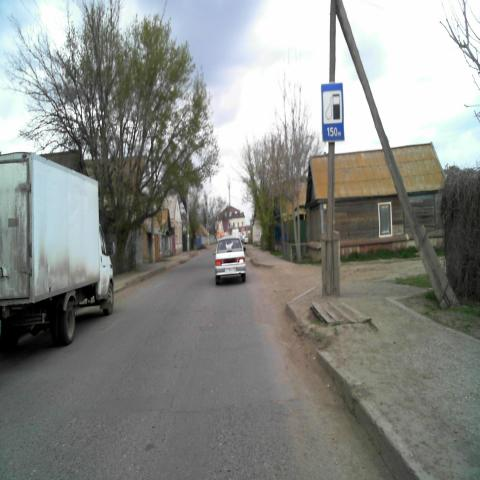7_3: (321, 83, 344, 141)
